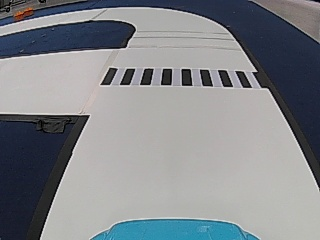CrossWalk: (99, 67, 268, 90)
